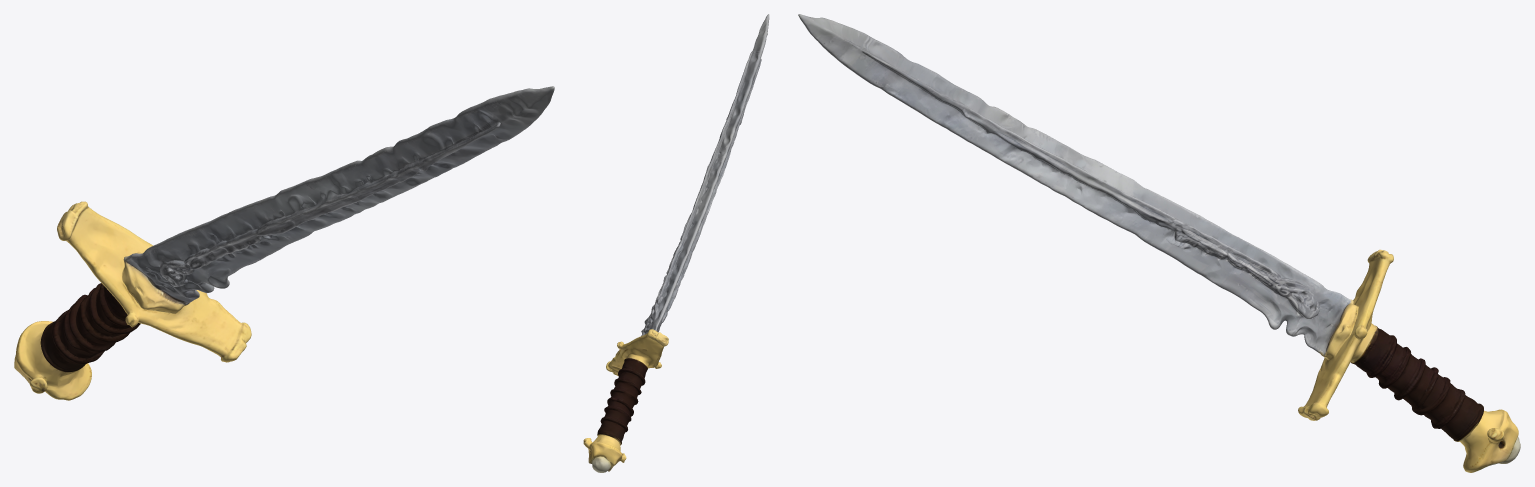
3 renders of one model, left to right at view 1: azimuth 30°, elevation 25°; view 2: azimuth 150°, elevation 25°; view 3: azimuth 270°, elevation 25°, orthographic. The views are drawn at different scales.
Parts seen in each view (by area): view 1: tripo_node_615c0320-6f3d-4e83-a7fb-f180ac405008; view 2: tripo_node_615c0320-6f3d-4e83-a7fb-f180ac405008; view 3: tripo_node_615c0320-6f3d-4e83-a7fb-f180ac405008.
Part boxes in pixels (left/top/right/bottom): tripo_node_615c0320-6f3d-4e83-a7fb-f180ac405008: left=14, top=86, right=554, bottom=400; tripo_node_615c0320-6f3d-4e83-a7fb-f180ac405008: left=583, top=14, right=769, bottom=472; tripo_node_615c0320-6f3d-4e83-a7fb-f180ac405008: left=798, top=14, right=1520, bottom=472.
Size of the model in its own units: 0.2051 by 0.7452 by 1.
1 material, 1 textured.
